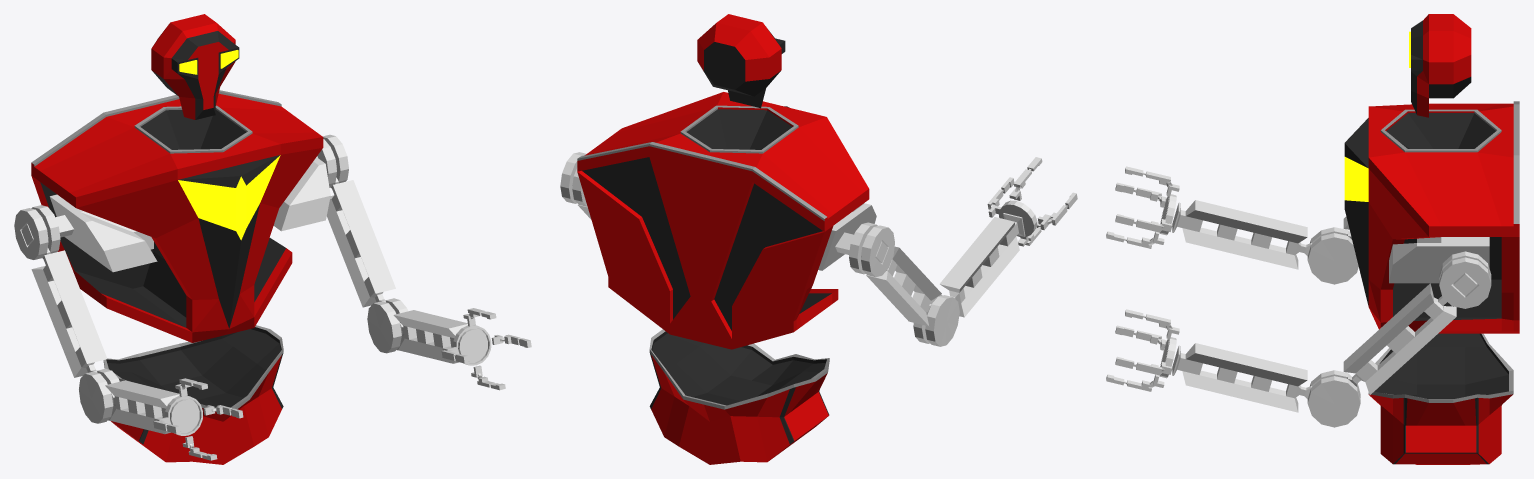
File: robot_color.fbx
3 renders of one model, left to right at view 1: azimuth 30°, elevation 25°; view 2: azimuth 150°, elevation 25°; view 3: azimuth 270°, elevation 25°, orthographic.
Visible parts, largest first — view 1: Torso, Arm, Pelvis, Head, Hand; view 2: Torso, Pelvis, Arm, Head, Hand; view 3: Torso, Arm, Pelvis, Head, Hand.
Boxes of the visible parts, bbox=[...] form: Torso: bbox=[31, 90, 323, 342]; Arm: bbox=[14, 134, 467, 434]; Pelvis: bbox=[103, 325, 283, 464]; Head: bbox=[151, 14, 239, 119]; Hand: bbox=[153, 308, 531, 460]; Torso: bbox=[577, 92, 869, 349]; Pelvis: bbox=[649, 329, 829, 464]; Arm: bbox=[560, 152, 1025, 346]; Head: bbox=[697, 14, 785, 108]; Hand: bbox=[987, 157, 1077, 246]; Torso: bbox=[1344, 101, 1519, 333]; Arm: bbox=[1172, 200, 1491, 427]; Pelvis: bbox=[1368, 333, 1513, 464]; Head: bbox=[1409, 14, 1471, 117]; Hand: bbox=[1106, 166, 1179, 391].
Bounding box in the file's own units: 575 × 650 × 570.
